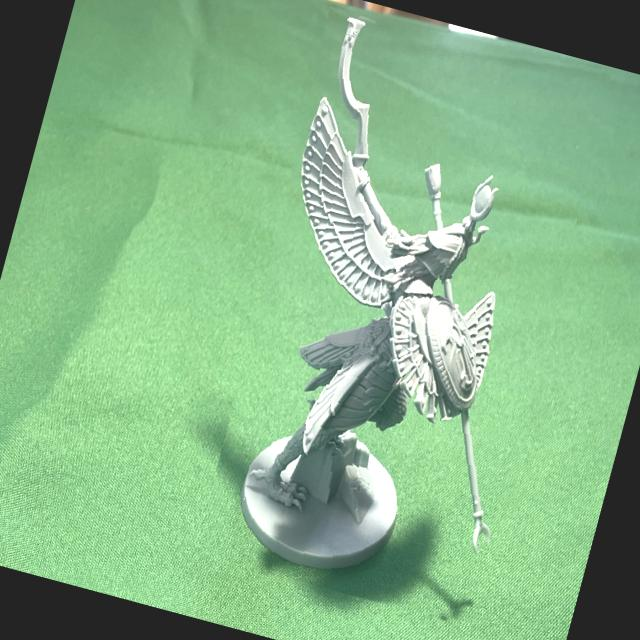isis: (188, 1, 625, 632)
